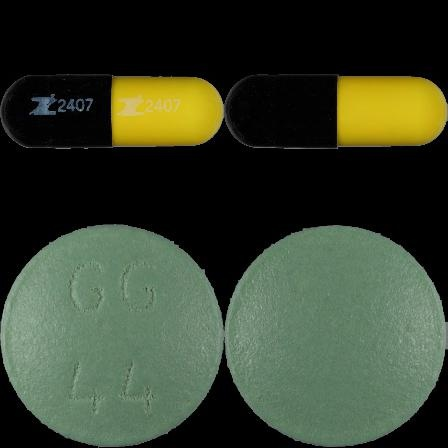52959-336: (0, 0, 224, 224)
